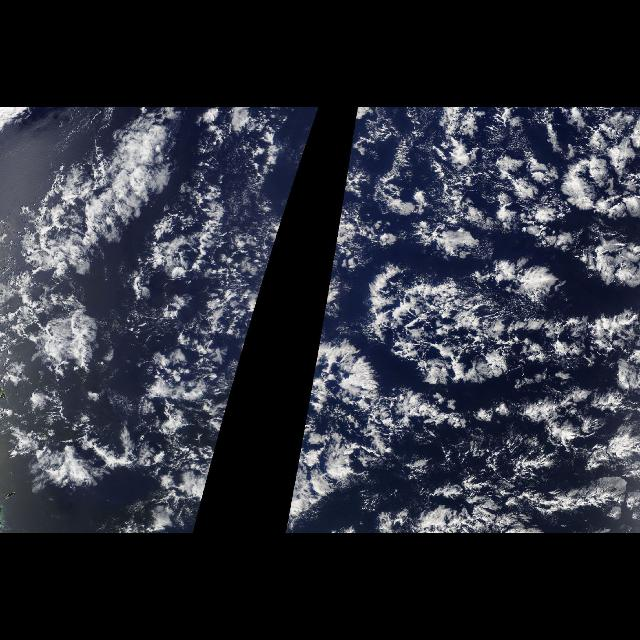Fish: (2, 112, 188, 376)
Flower: (286, 116, 634, 530), (150, 116, 316, 530)
